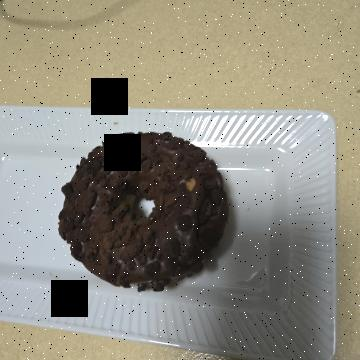doughnut: (101, 125, 279, 311)
